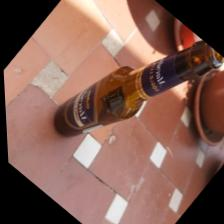glass: (34, 31, 208, 223)
